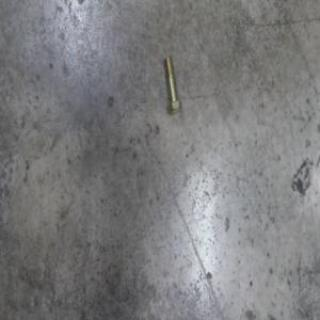Bolttrack_idkeyframe: (163, 54, 181, 114)
